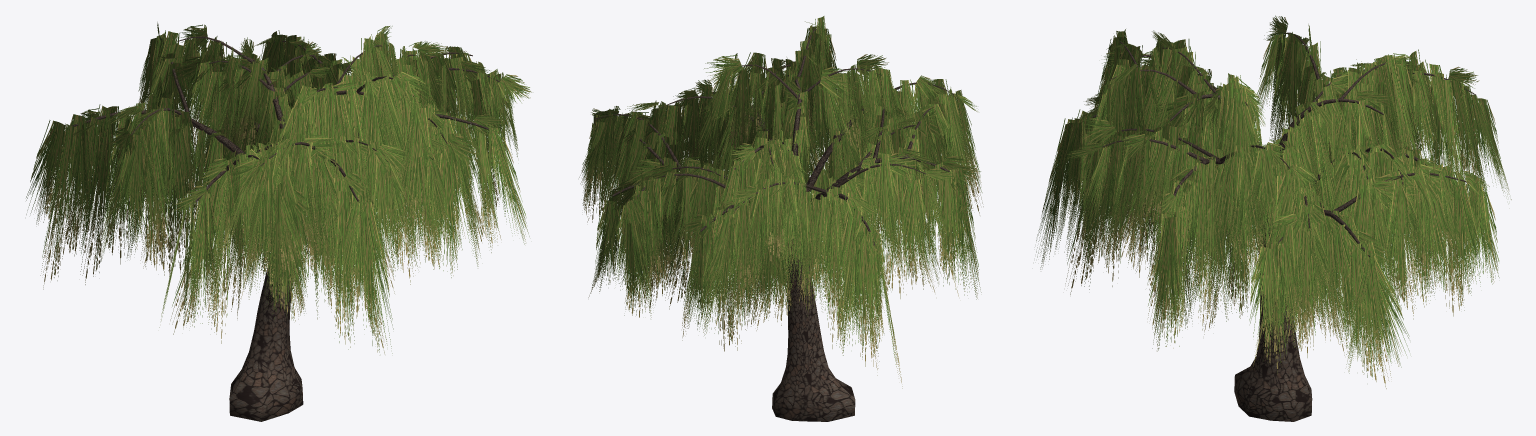
File: tree_willow28.glb
The picture shows the model from 3 angles, left to right: view 1: azimuth 30°, elevation 25°; view 2: azimuth 150°, elevation 25°; view 3: azimuth 270°, elevation 25°; orthographic projection. The views are drawn at different scales.
Visible parts, largest first — view 1: willow_leaves, willow_trunk; view 2: willow_leaves, willow_trunk; view 3: willow_leaves, willow_trunk.
Boxes of the visible parts, bbox=[...] form: willow_leaves: bbox=[26, 22, 531, 353]; willow_trunk: bbox=[72, 36, 499, 421]; willow_leaves: bbox=[579, 16, 983, 388]; willow_trunk: bbox=[594, 28, 953, 421]; willow_leaves: bbox=[1036, 15, 1511, 388]; willow_trunk: bbox=[1087, 32, 1475, 421].
Size of the model in its own units: 6.76 by 5.49 by 6.6.
Materials: 2 (2 with a texture image).
